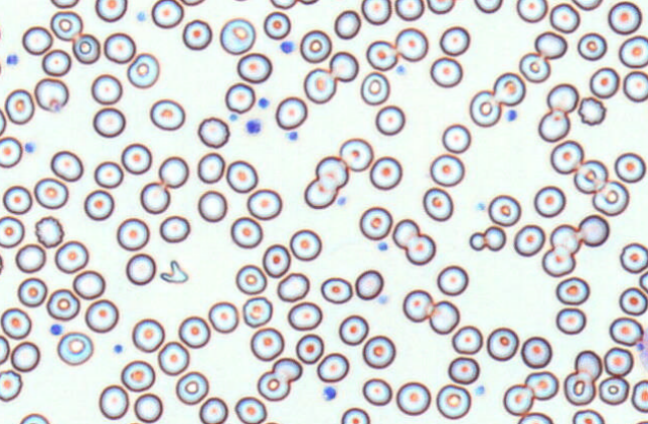PLT: (244, 118, 263, 135), (321, 386, 338, 401), (5, 52, 20, 67), (280, 39, 295, 54), (49, 323, 65, 337), (505, 109, 519, 122), (134, 10, 146, 23), (23, 142, 37, 153), (473, 385, 485, 397), (258, 98, 271, 109), (287, 129, 298, 142), (473, 201, 484, 213), (113, 342, 123, 355), (378, 241, 389, 251), (336, 196, 347, 206), (396, 66, 406, 74), (228, 114, 238, 121)
RBC: (591, 179, 629, 216), (219, 17, 255, 54), (435, 383, 471, 419), (56, 331, 93, 365), (573, 159, 608, 194), (469, 89, 501, 127), (84, 298, 118, 333), (395, 381, 430, 415), (303, 67, 336, 103), (126, 52, 159, 88), (250, 327, 284, 361), (339, 137, 373, 171), (550, 139, 583, 174), (429, 153, 464, 186), (120, 359, 155, 392), (369, 155, 402, 190), (607, 1, 642, 34), (246, 188, 282, 220), (149, 98, 185, 130), (492, 72, 525, 106), (395, 27, 428, 61), (46, 288, 80, 321), (116, 217, 149, 251), (175, 370, 208, 404), (359, 206, 392, 240), (54, 240, 88, 273), (362, 334, 395, 368), (131, 318, 164, 352), (33, 177, 68, 209), (486, 326, 518, 361), (236, 52, 272, 83), (315, 155, 348, 188), (538, 108, 570, 142), (563, 371, 595, 405), (157, 341, 189, 375), (299, 29, 331, 63), (275, 96, 307, 130), (226, 159, 258, 193), (487, 194, 521, 226), (98, 384, 129, 419), (422, 186, 453, 221), (4, 88, 34, 124), (304, 177, 337, 209), (502, 383, 534, 416), (178, 315, 210, 348), (289, 228, 321, 261), (256, 370, 290, 401), (541, 246, 575, 277), (428, 300, 459, 334), (49, 10, 83, 41), (513, 224, 545, 256), (230, 216, 262, 248), (197, 116, 229, 148), (436, 264, 468, 296), (533, 185, 565, 217), (520, 336, 552, 368), (365, 40, 398, 71), (402, 289, 433, 322), (429, 56, 462, 87), (158, 155, 189, 188), (50, 150, 83, 181), (92, 106, 125, 137), (609, 316, 643, 346), (360, 71, 390, 105), (287, 301, 322, 330), (549, 223, 581, 254), (404, 233, 435, 265), (546, 82, 578, 113), (125, 253, 156, 285), (518, 52, 550, 83), (578, 214, 609, 246), (0, 307, 31, 339), (614, 152, 646, 183), (90, 73, 122, 104), (103, 32, 135, 63), (121, 142, 152, 174), (34, 215, 64, 248), (140, 181, 170, 214), (276, 272, 309, 302), (72, 269, 105, 299), (316, 352, 349, 382), (197, 189, 227, 222), (589, 66, 619, 99), (524, 371, 558, 400), (555, 276, 589, 305), (439, 25, 470, 56), (224, 82, 255, 113), (549, 2, 580, 33), (83, 189, 114, 220), (235, 264, 267, 294), (10, 340, 40, 372), (208, 301, 238, 333), (534, 30, 567, 59), (618, 35, 647, 68), (262, 243, 290, 277), (603, 346, 633, 377), (182, 19, 212, 50), (21, 25, 52, 55), (133, 392, 163, 423), (15, 243, 46, 273), (242, 296, 272, 327), (375, 104, 405, 135), (338, 314, 368, 345), (451, 325, 483, 354), (2, 184, 32, 214), (441, 123, 471, 153), (17, 277, 47, 307), (329, 51, 358, 82), (619, 242, 648, 273), (598, 376, 629, 405), (354, 269, 383, 300), (574, 349, 602, 381), (72, 32, 100, 64), (151, 0, 183, 28), (320, 276, 352, 304), (447, 356, 479, 384), (618, 286, 647, 316), (362, 377, 392, 406), (577, 32, 607, 61), (392, 218, 420, 249), (197, 152, 225, 183), (159, 215, 190, 243), (295, 333, 323, 364), (234, 396, 266, 423), (577, 96, 606, 125), (41, 48, 71, 76), (333, 9, 361, 39), (93, 160, 123, 188), (555, 307, 586, 334), (622, 70, 647, 102), (0, 215, 24, 248), (199, 396, 228, 423), (263, 11, 290, 39), (272, 357, 302, 382), (361, 0, 391, 25), (0, 369, 22, 402), (94, 0, 127, 22), (0, 136, 22, 168), (516, 0, 547, 22), (394, 0, 424, 21), (483, 225, 506, 251), (631, 379, 647, 413), (572, 408, 604, 423), (340, 407, 370, 423), (517, 411, 553, 423), (426, 0, 455, 14), (473, 0, 502, 13), (468, 231, 485, 251), (19, 412, 49, 423), (571, 0, 603, 10), (0, 335, 10, 364), (269, 0, 296, 9), (50, 0, 79, 8), (639, 269, 648, 294), (0, 107, 6, 135), (180, 0, 205, 6), (298, 0, 319, 5), (0, 252, 4, 275), (262, 420, 283, 424), (231, 0, 251, 1)
Schistocyte: (36, 78, 69, 112), (161, 260, 189, 284)
